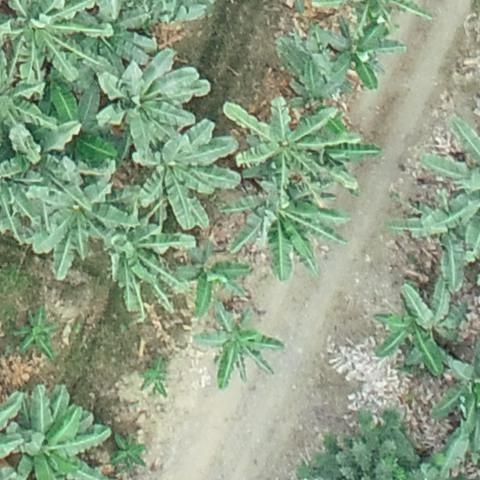Banana-plant: (137, 124, 244, 234), (224, 95, 340, 196), (26, 161, 129, 272), (99, 57, 210, 159), (2, 0, 115, 95), (238, 185, 347, 276), (9, 389, 112, 480), (109, 221, 199, 316), (192, 307, 290, 386), (317, 14, 405, 99), (379, 282, 447, 377), (14, 304, 67, 364), (129, 355, 179, 403), (108, 430, 147, 464)
